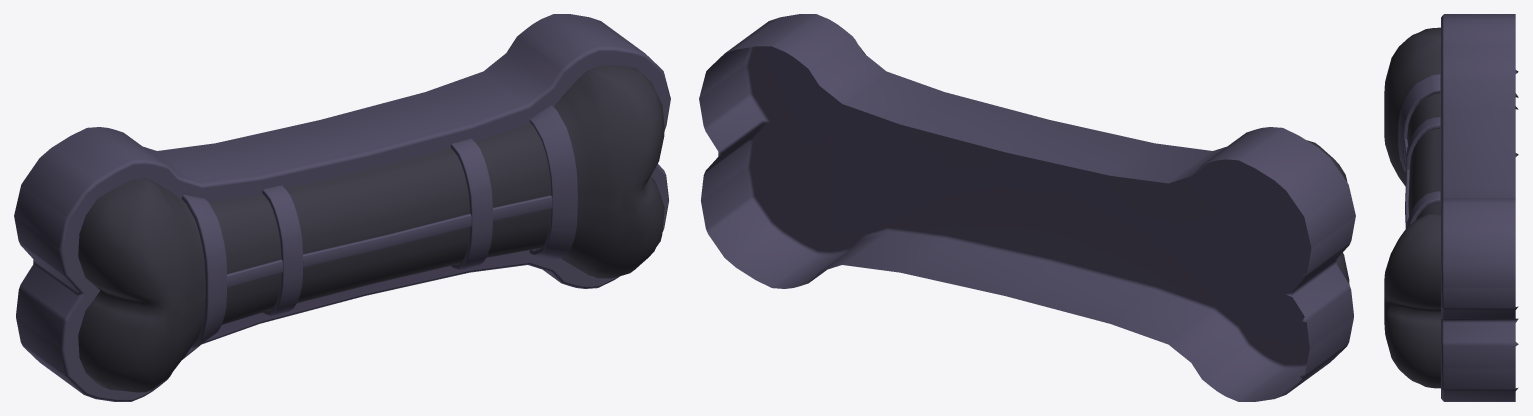
The model's file is SM_Bone_Window_01.fbx.
3 renders of one model, left to right at view 1: azimuth 30°, elevation 25°; view 2: azimuth 150°, elevation 25°; view 3: azimuth 270°, elevation 25°, orthographic. The views are drawn at different scales.
Parts seen in each view (by area): view 1: Bone_Window_02; view 2: Bone_Window_02; view 3: Bone_Window_02.
Boxes of the visible parts, x1,y1,x2,y2 form: Bone_Window_02: (14,14,670,401); Bone_Window_02: (699,14,1355,401); Bone_Window_02: (1384,14,1518,401).
Bounding box in the file's own units: 1691 × 638 × 399.
